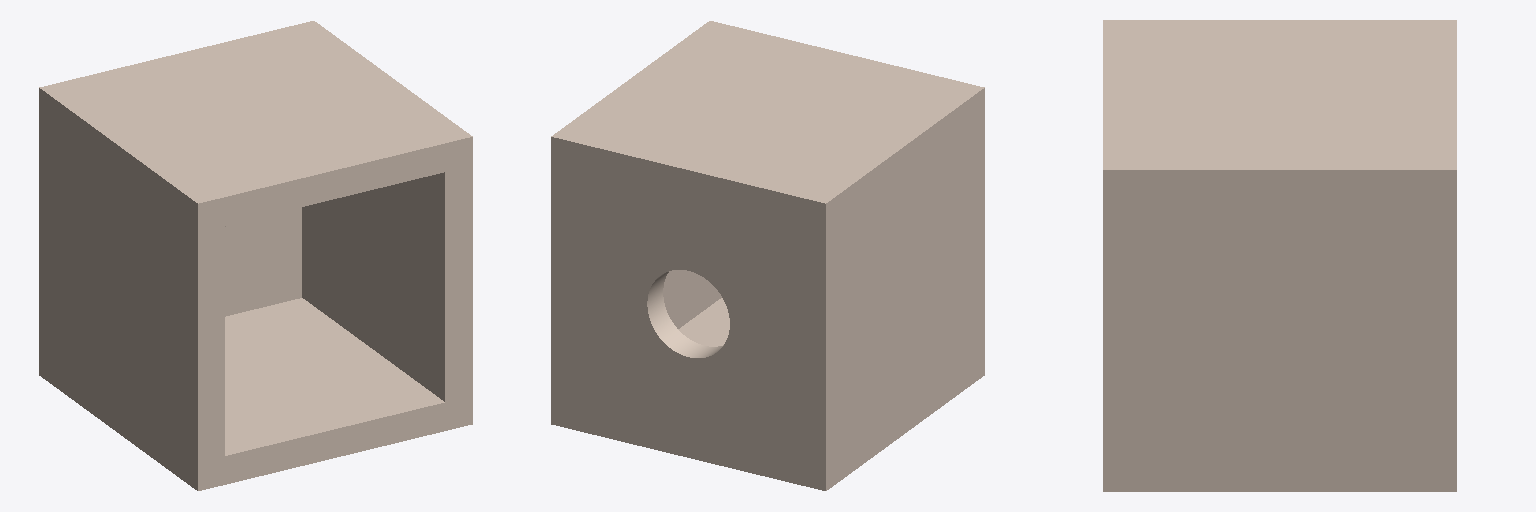
The robot description file, URDF, robot "board":
<?xml version="1.0"?>
<robot name="board">
    <material name="brown">
        <color rgba="0.87 0.81 0.76 1.0"/>
    </material>

    <link concave="yes" name="board">
        <inertial>
            <origin xyz="0 0 0" rpy="0 0 0"/>
            <mass value="1.86"/>
            <inertia ixx="1"  ixy="0"  ixz="0" iyy="1" iyz="0" izz="1" />
        </inertial>

        <visual>
            <origin xyz="0 0 0" rpy="0 0 0" />
            <geometry>
                <mesh filename="board_easy.obj" scale="1 1 1"/>
            </geometry>
            <material name="brown"/>
        </visual>

        <collision concave="yes">
            <origin xyz="0 0 0" rpy="0 0 0" />
            <geometry>
                <mesh filename="board_easy.obj" scale="1 1 1"/>
            </geometry>
        </collision>
    </link>

    <joint name="board__circle" type="fixed">
        <parent link="board"/>
        <child link="circle"/>
        <origin xyz="0.0 0.190 0.0" rpy="0 0 0" />
    </joint>
    
    <link name="circle" >
        <inertial>
            <origin xyz="0 0 0" rpy="0 0 0"/>
            <mass value="0"/>
            <inertia ixx="1"  ixy="0"  ixz="0" iyy="1" iyz="0" izz="1" />
        </inertial>
    </link>

</robot>

--- What the picture shows (computed from the rendered views, not written in the file) ---
3 views of the same robot in one strip: view 1: azimuth 30°, elevation 25°; view 2: azimuth 150°, elevation 25°; view 3: azimuth 270°, elevation 25° (orthographic).
Robot: board — 2 links, 1 joints (1 fixed); root link board; default pose: every joint at zero.
Links seen in each view (by area): view 1: board; view 2: board; view 3: board.
Boxes of the visible links, box(x1,y1,x2,y2) form: board: box(39, 21, 472, 490); board: box(551, 21, 984, 490); board: box(1103, 20, 1456, 491).
Bounding box of the posed robot: 0.2 × 0.2 × 0.2 m (x, y, z).
Meshes: 1 distinct files referenced, 1 mesh visuals loaded (1 OBJ).